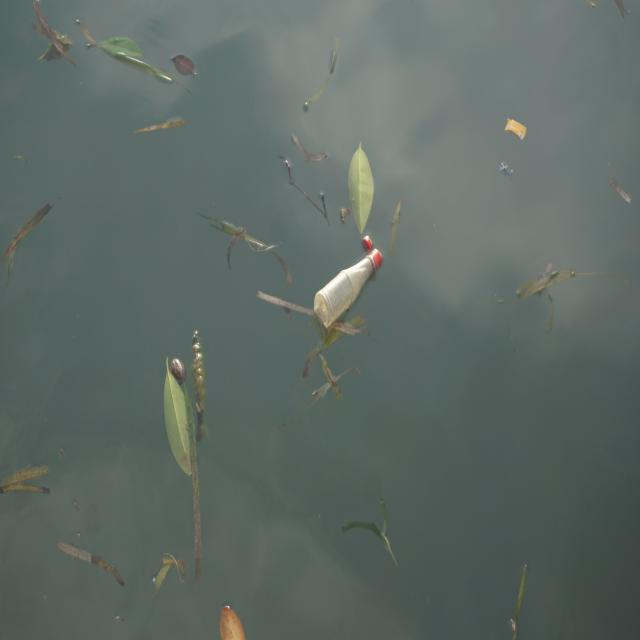Botol Plastik: (311, 237, 384, 334)
